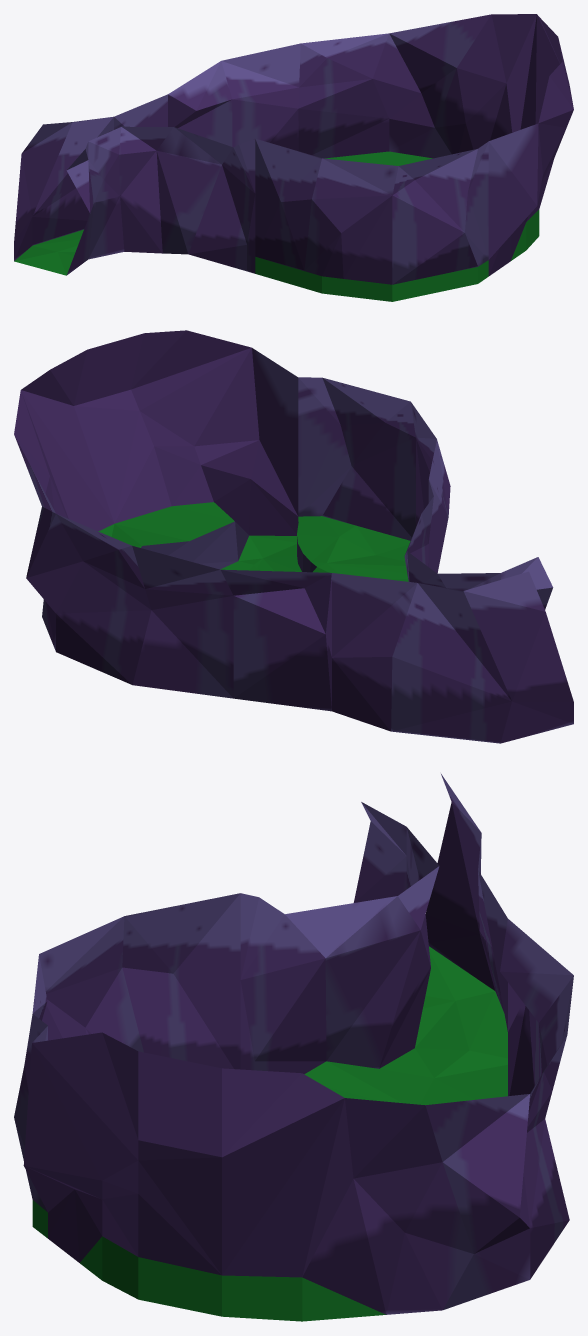
File: Mapa Base.fbx
3 views of the same model, one above another, from view 1: azimuth 30°, elevation 25°; view 2: azimuth 150°, elevation 25°; view 3: azimuth 270°, elevation 25° (orthographic). The views are drawn at different scales.
Visible parts, largest first — view 1: Mapa Base; view 2: Mapa Base; view 3: Mapa Base.
Boxes of the visible parts, bbox=[...] form: Mapa Base: bbox=[14, 14, 573, 301]; Mapa Base: bbox=[14, 330, 573, 743]; Mapa Base: bbox=[14, 774, 573, 1321].
Size of the model in its own units: 57424 by 35553 by 19117.
2 materials, 1 textured.
